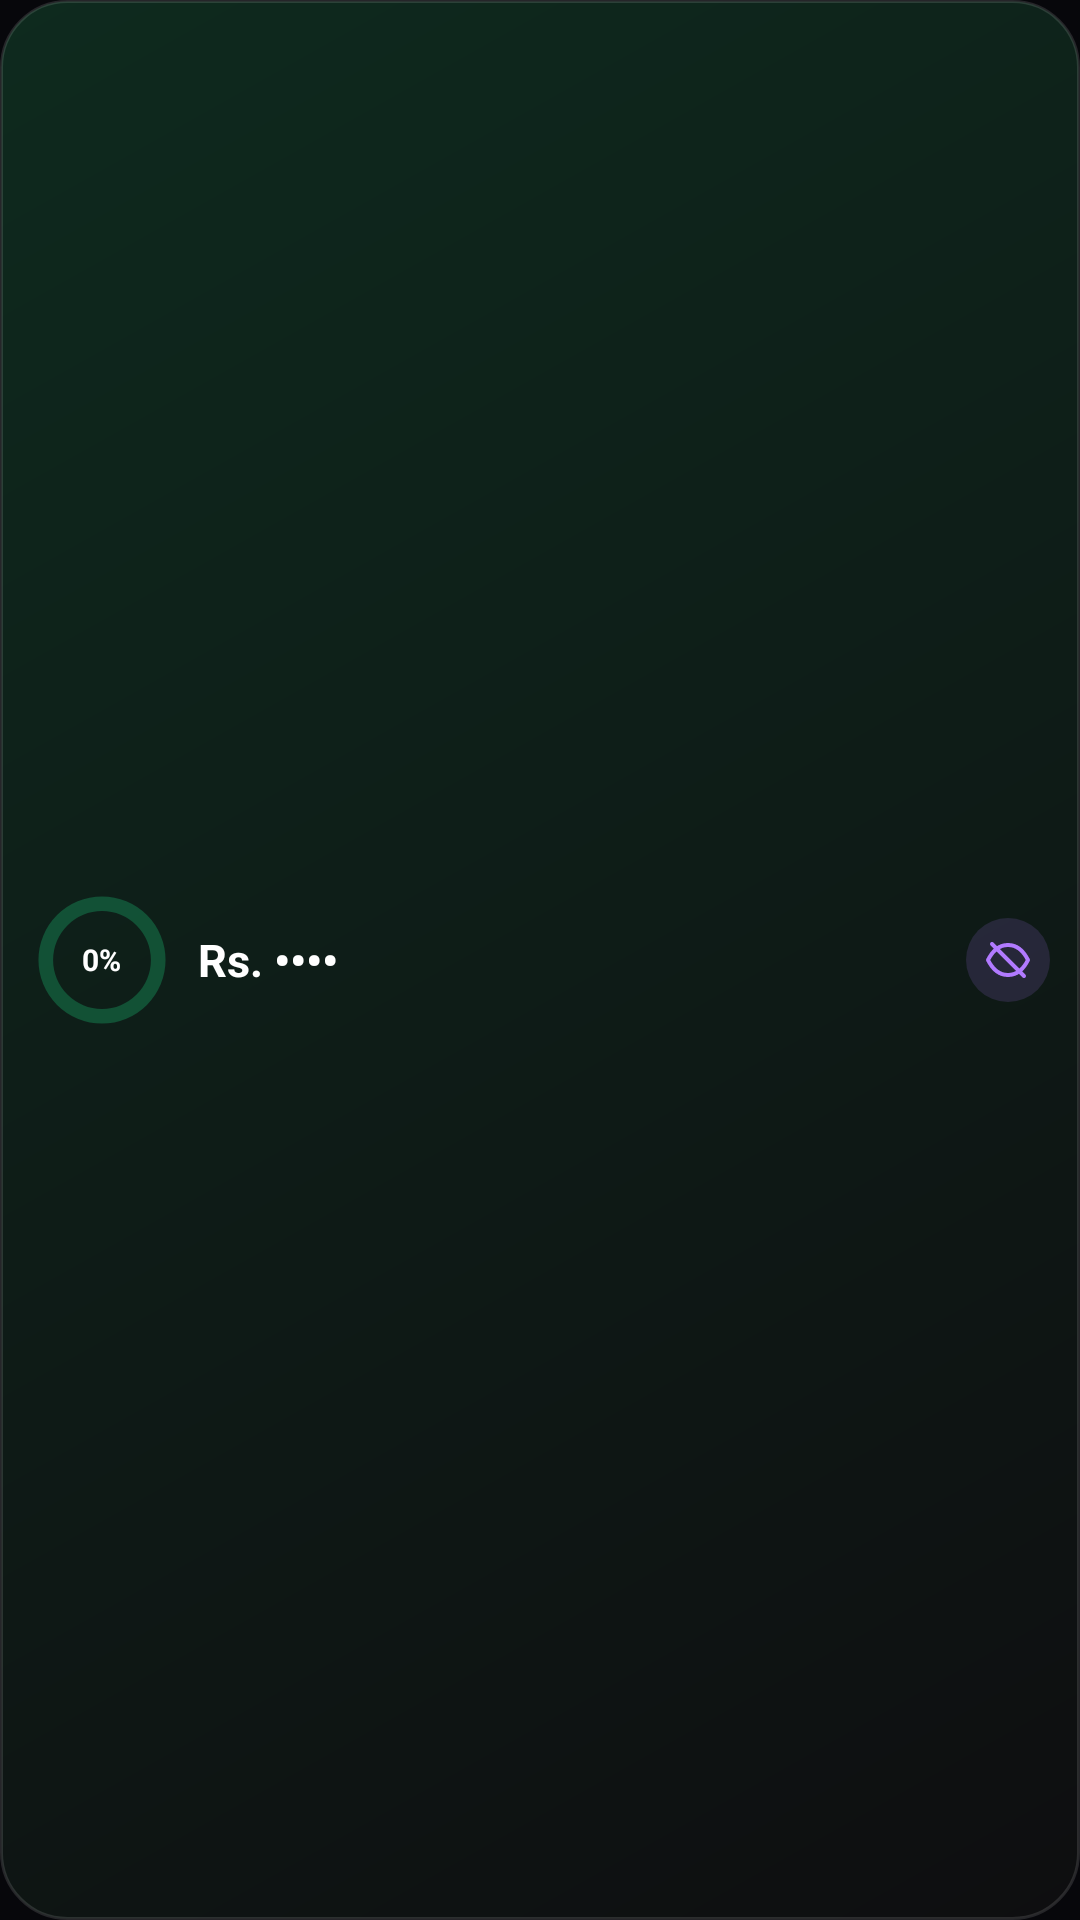

Screen size 1080*1920. Icon name, then its box in pixels as (x1, y1, x2, y2):
Show amounts: (966, 918, 1050, 1002)
widget ring: (38, 896, 166, 1023)
